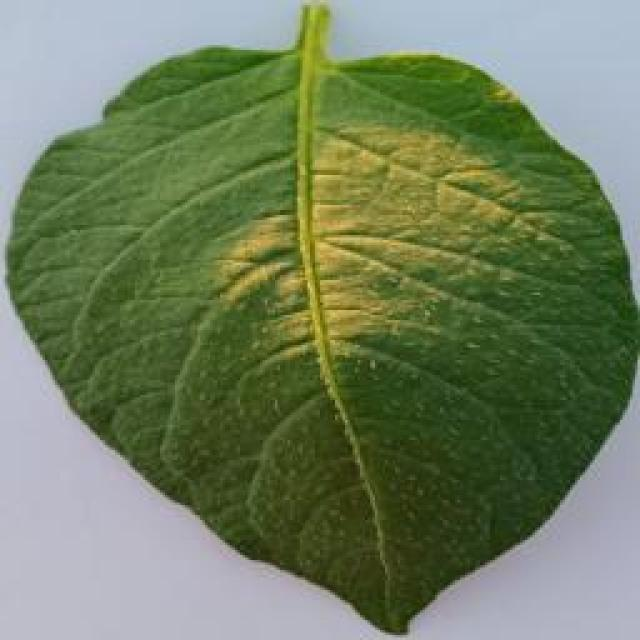Potato_Healthy: (7, 7, 626, 635)
